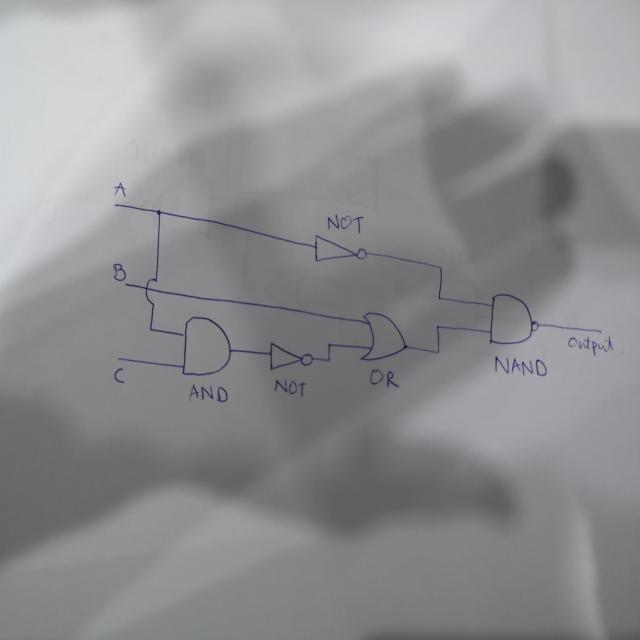crossover: (143, 274, 158, 305)
junction: (154, 207, 163, 218), (436, 262, 444, 272), (435, 293, 443, 302), (147, 325, 154, 333), (434, 347, 441, 355), (434, 323, 441, 331), (326, 342, 332, 347), (326, 356, 330, 363)
terminal: (594, 326, 605, 336), (114, 353, 122, 364), (112, 200, 120, 209), (121, 279, 129, 288)
text: (494, 353, 549, 378), (567, 332, 614, 357), (187, 381, 230, 405), (325, 211, 365, 235), (272, 375, 308, 399), (367, 365, 400, 390), (112, 179, 126, 199), (112, 262, 126, 281), (113, 365, 126, 384)
